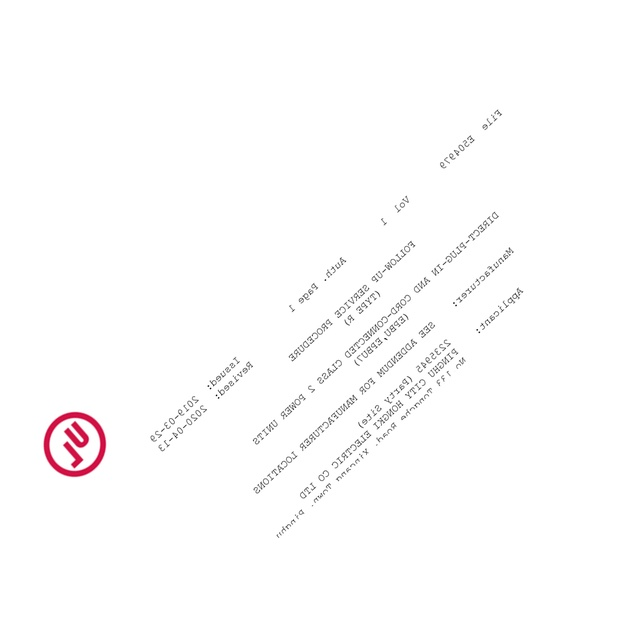ul: (42, 411, 107, 478)
